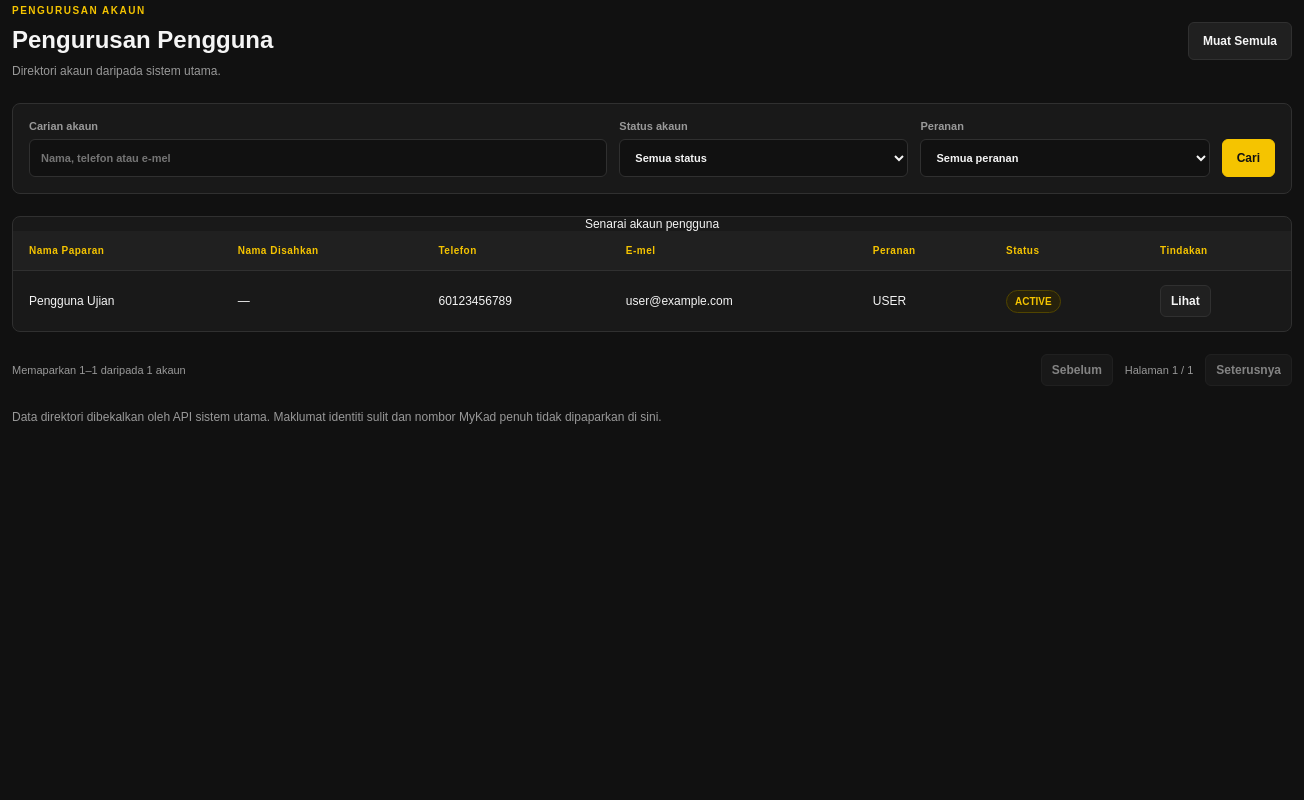
Test: AccountsPage › memaparkan butiran akaun apabila butang Lihat ditekan
Expected: the text "Pengguna Ujian" is shown, top-left (13, 271), bottom-right (222, 331)
Click the button "Lihat". click: (1185, 301)
box: top-left (1160, 285), bottom-right (1211, 317)
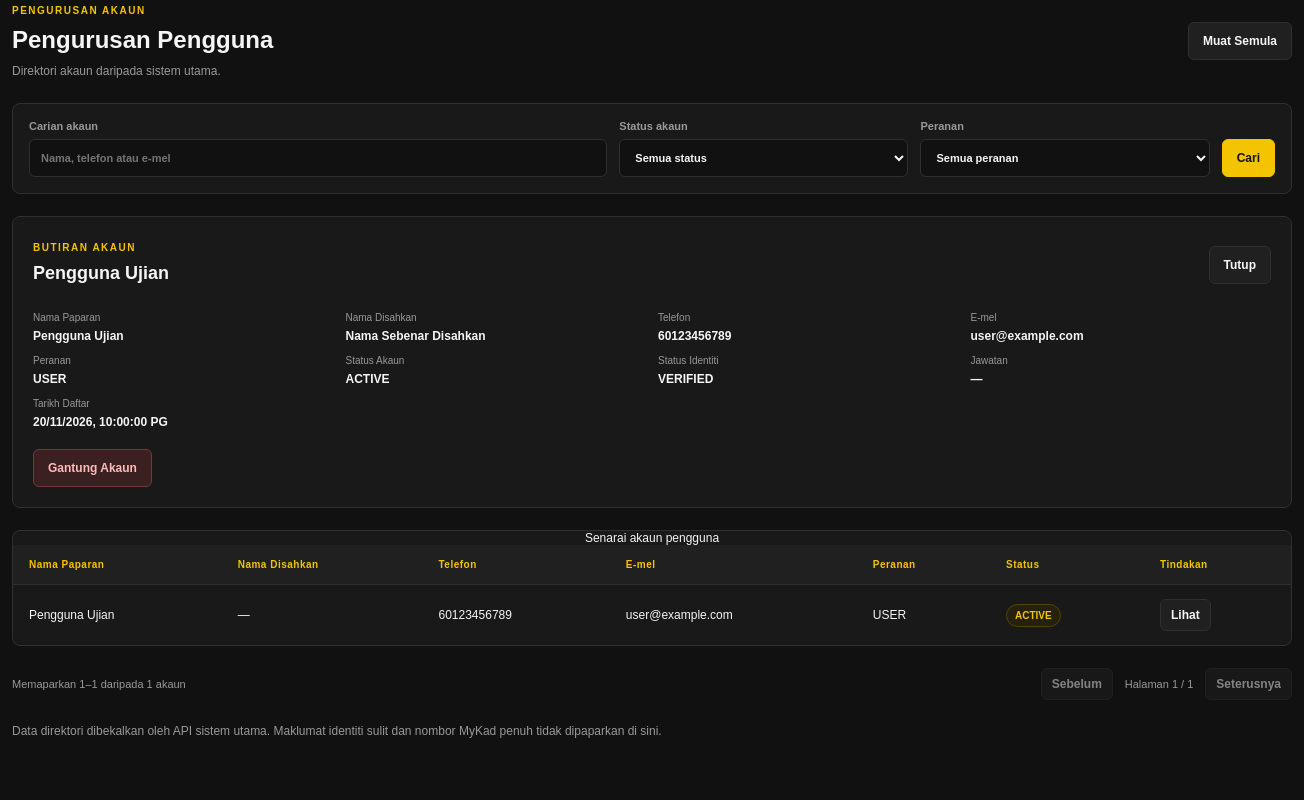
Expected: the text "Nama Sebenar Disahkan" is shown, top-left (346, 329), bottom-right (486, 343)
Expected: the text "Status Identiti" is shown, top-left (658, 355), bottom-right (719, 366)
Expected: the text "VERIFIED" is shown, top-left (658, 372), bottom-right (713, 386)
